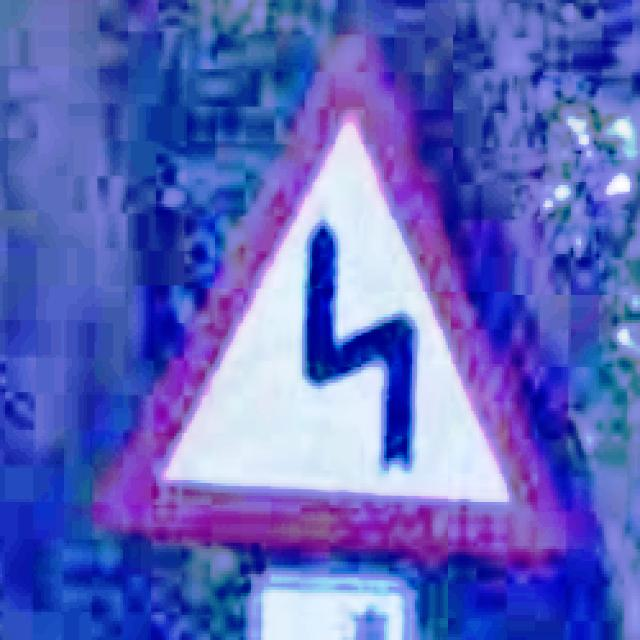doublebendleft: (113, 38, 561, 558)
